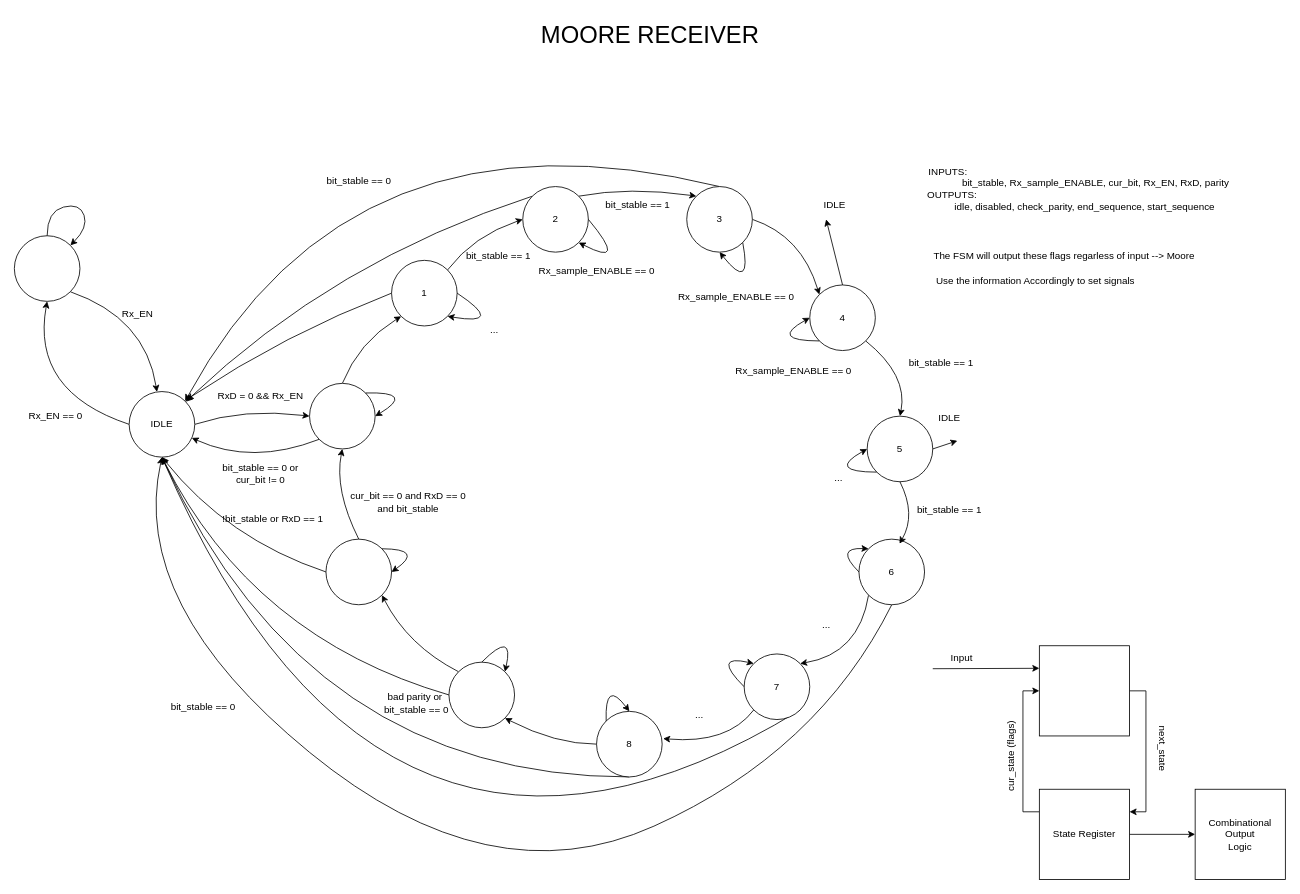
Some shapes in this 1300 by 894 pixel diagram are drawn without their labels. The shapes that lost their labels are listed below. From the top down, each one's box as (x1, y1, x2, y2) in pixels, then its label:
(14, 235, 80, 301): DIS
(309, 383, 375, 449): START
(325, 538, 392, 605): END
(448, 661, 515, 728): PARITY
(1039, 645, 1130, 736): Combinational State Logic
